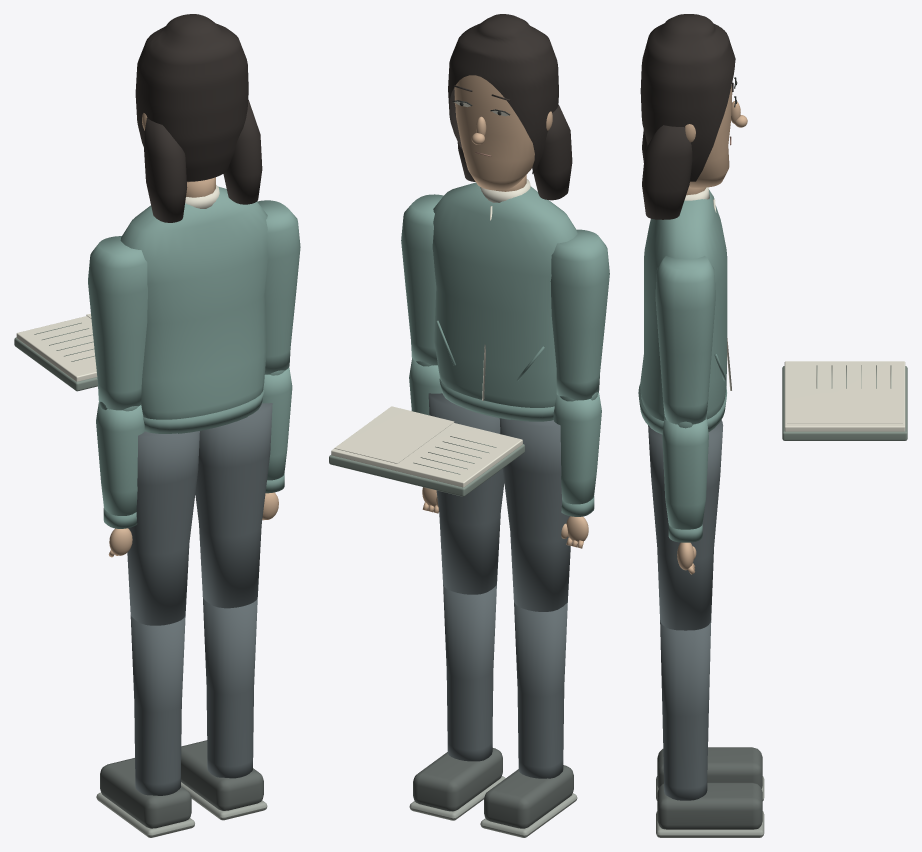
The model's file is ambient_study_walk.glb.
3 renders of one model, left to right at view 1: azimuth 30°, elevation 25°; view 2: azimuth 150°, elevation 25°; view 3: azimuth 270°, elevation 25°, orthographic.
Parts seen in each view (by area): view 1: QuietClothTorso, Brow, TrouserThigh.001, TrouserThigh, Sleeve, Knee, Knee.001, Sleeve.001, ElbowTransition, OrdinaryShoe, BookPages, OrdinaryShoe.001 (+6 smaller); view 2: QuietClothTorso, Brow, TrouserThigh, Sleeve, Knee.001, Knee, TrouserThigh.001, AdultFace, BookPages, Sleeve.001, ElbowTransition, OrdinaryShoe (+9 smaller); view 3: Brow, QuietClothTorso, Sleeve.001, Knee.001, TrouserThigh.001, BookPages, ElbowTransition.001, OrdinaryShoe.001, TurningPage, OrdinaryShoe, AdultFace, BookCover (+2 smaller).
Part boxes in pixels (box(x1,y1,x2,y2)): QuietClothTorso: box(120, 187, 268, 433); Brow: box(135, 14, 262, 222); TrouserThigh.001: box(195, 403, 272, 608); TrouserThigh: box(127, 431, 199, 625); Sleeve: box(88, 236, 147, 410); Knee: box(130, 615, 185, 795); Knee.001: box(202, 596, 257, 778); Sleeve.001: box(257, 200, 300, 374); ElbowTransition: box(96, 401, 144, 515); OrdinaryShoe: box(100, 758, 191, 828); BookPages: box(16, 316, 97, 381); OrdinaryShoe.001: box(181, 740, 263, 810); QuietClothTorso: box(432, 182, 577, 421); Brow: box(448, 14, 572, 200); TrouserThigh: box(499, 418, 570, 611); Sleeve: box(550, 229, 609, 400); Knee.001: box(443, 584, 496, 761); Knee: box(514, 601, 567, 778); TrouserThigh.001: box(428, 393, 504, 594); AdultFace: box(454, 75, 552, 190); BookPages: box(331, 423, 522, 487); Sleeve.001: box(401, 194, 443, 365); ElbowTransition: box(553, 392, 601, 504); OrdinaryShoe: box(484, 765, 573, 828); Brow: box(640, 14, 735, 219); QuietClothTorso: box(640, 190, 727, 434); Sleeve.001: box(655, 256, 715, 424); Knee.001: box(660, 620, 711, 800); TrouserThigh.001: box(648, 420, 723, 630); BookPages: box(784, 361, 905, 431); ElbowTransition.001: box(662, 414, 708, 529); OrdinaryShoe.001: box(657, 782, 762, 829); TurningPage: box(787, 392, 902, 423); OrdinaryShoe: box(657, 747, 762, 788); AdultFace: box(685, 85, 747, 187); BookCover: box(782, 365, 907, 440).
Size of the model in its own units: 0.408 by 1.54 by 0.473.
